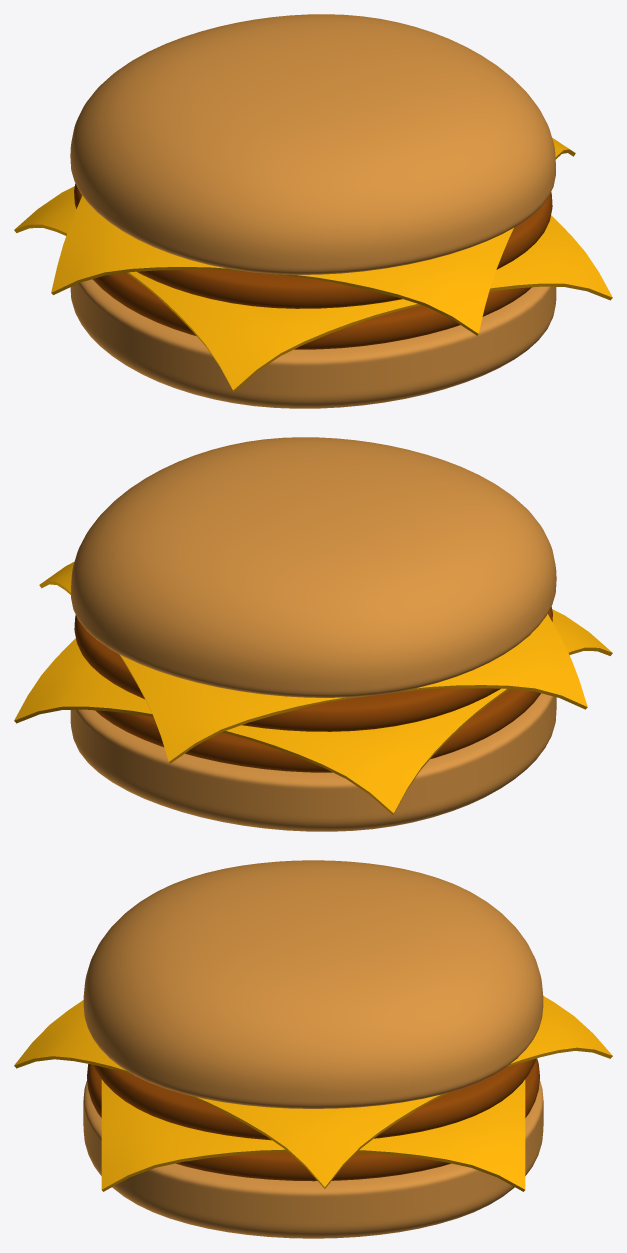
Rendered from hamburger.glb.
3 views of the same model, one above another, from view 1: azimuth 30°, elevation 25°; view 2: azimuth 150°, elevation 25°; view 3: azimuth 270°, elevation 25° (orthographic). The views are drawn at different scales.
Parts seen in each view (by area): view 1: Cube.002, Cube, Plane, Plane.001, Cube.003, Cube.001; view 2: Cube.002, Cube, Plane, Plane.001, Cube.003, Cube.001; view 3: Cube.002, Cube, Plane, Plane.001, Cube.003, Cube.001.
Boxes of the visible parts, box(x1,y1,x2,y2) form: Cube.002: box(70, 14, 555, 274); Cube: box(70, 279, 556, 408); Plane: box(14, 186, 612, 391); Plane.001: box(51, 138, 575, 335); Cube.003: box(74, 183, 552, 308); Cube.001: box(92, 272, 531, 349); Cube.002: box(71, 437, 556, 697); Cube: box(70, 693, 556, 831); Plane: box(14, 609, 612, 814); Plane.001: box(39, 561, 587, 763); Cube.003: box(74, 606, 552, 731); Cube.001: box(95, 689, 540, 772); Cube.002: box(83, 860, 543, 1108); Cube: box(83, 1080, 543, 1238); Plane: box(101, 1079, 525, 1191); Plane.001: box(14, 996, 612, 1188); Cube.003: box(93, 1058, 535, 1140); Cube.001: box(87, 1058, 539, 1181).
Size of the model in its own units: 11.93 by 5.58 by 11.93.
